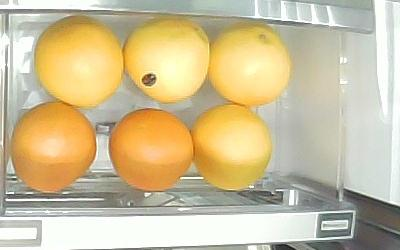grapefruit: (32, 16, 125, 107), (10, 102, 97, 193), (124, 16, 211, 104), (206, 22, 291, 107), (191, 102, 272, 191), (108, 109, 194, 192)
